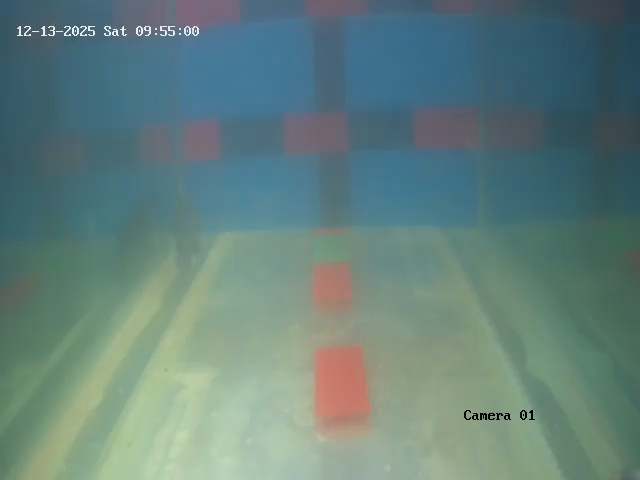fish: (159, 195, 223, 285)
